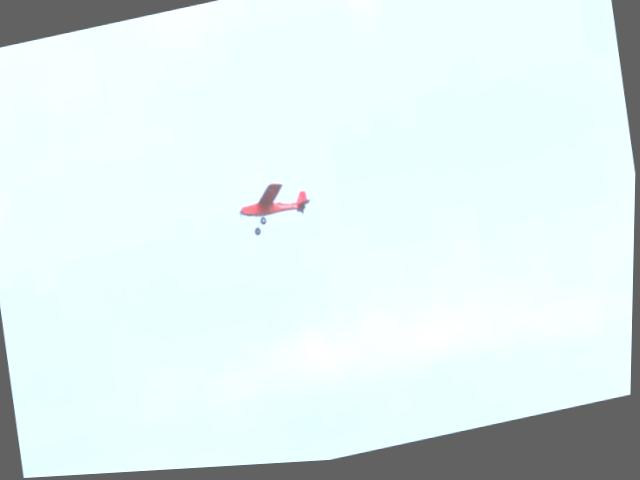plane: (236, 180, 314, 243)
